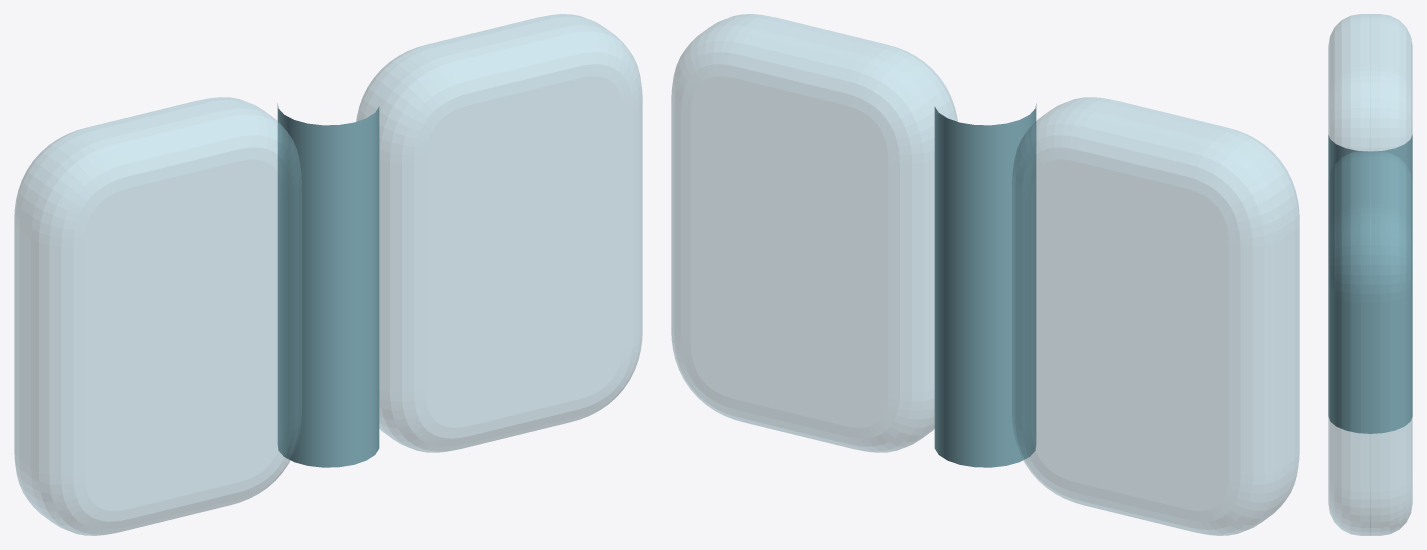
3 renders of one model, left to right at view 1: azimuth 30°, elevation 25°; view 2: azimuth 150°, elevation 25°; view 3: azimuth 270°, elevation 25°, orthographic. The views are drawn at different scales.
Visible parts, largest first — view 1: hinge-leaf--0.5, hinge-leaf-0.5, hinge-axis; view 2: hinge-leaf--0.5, hinge-leaf-0.5, hinge-axis; view 3: hinge-leaf-0.5, hinge-axis, hinge-leaf--0.5.
Boxes of the visible parts, x1,y1,x2,y2 form: hinge-leaf--0.5: (14, 97, 301, 535); hinge-leaf-0.5: (356, 14, 642, 452); hinge-axis: (277, 103, 379, 467); hinge-leaf--0.5: (1012, 97, 1299, 535); hinge-leaf-0.5: (671, 14, 957, 452); hinge-axis: (934, 103, 1036, 467); hinge-leaf-0.5: (1328, 151, 1412, 535); hinge-axis: (1328, 134, 1412, 433); hinge-leaf--0.5: (1328, 14, 1412, 151).
Size of the model in its own units: 1.78 by 1.1 by 0.26.
